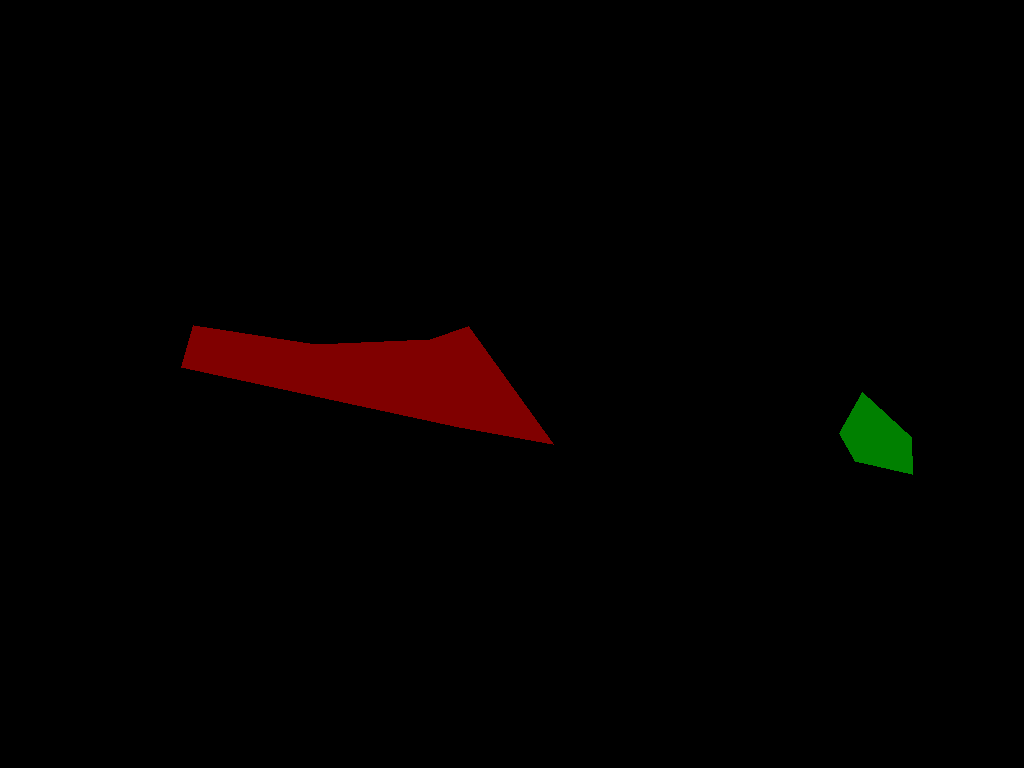fire: (181, 325, 553, 444), (839, 392, 912, 474)
